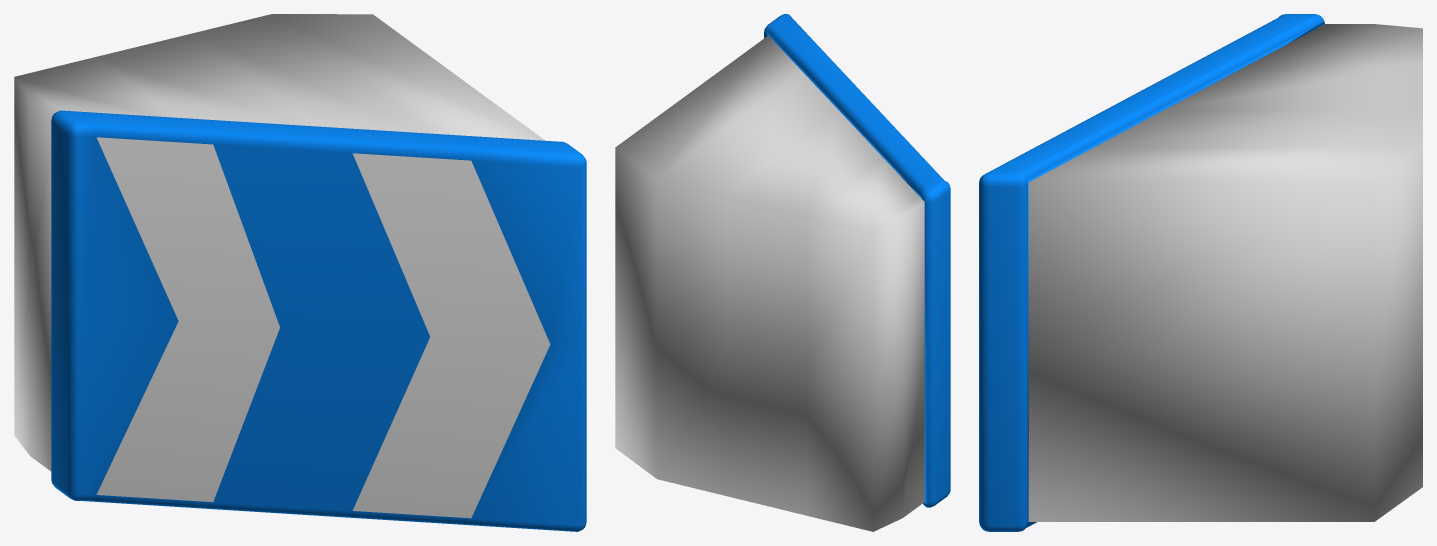
The model's file is Base_1_Ramp_Base_to_Tall_Up.glb.
3 views of the same model, side by side, from view 1: azimuth 30°, elevation 25°; view 2: azimuth 150°, elevation 25°; view 3: azimuth 270°, elevation 25° (orthographic). The views are drawn at different scales.
Parts seen in each view (by area): view 1: Base 1 Ramp Base to Tall Up; view 2: Base 1 Ramp Base to Tall Up; view 3: Base 1 Ramp Base to Tall Up.
Part boxes in pixels (x1=…): Base 1 Ramp Base to Tall Up: x1=14, y1=14, x2=586, y2=531; Base 1 Ramp Base to Tall Up: x1=615, y1=14, x2=950, y2=531; Base 1 Ramp Base to Tall Up: x1=979, y1=14, x2=1422, y2=531.
Bounding box in the file's own units: 7.98 × 7.98 × 8.97.
